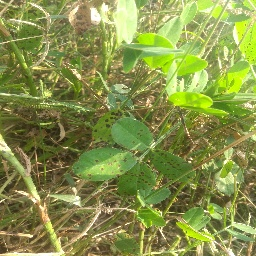GroundNut_Leaf: (71, 146, 137, 179), (149, 16, 181, 68), (152, 149, 196, 183), (112, 118, 151, 146), (225, 61, 250, 93), (186, 207, 203, 226)
